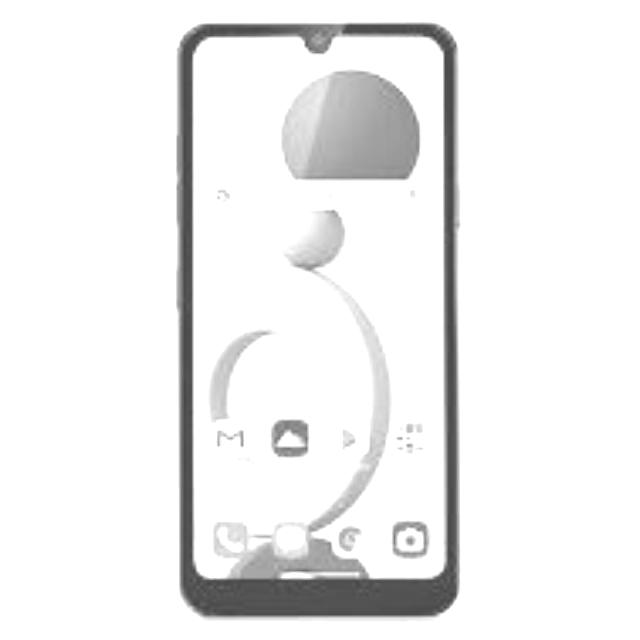fake: (171, 10, 454, 616)
